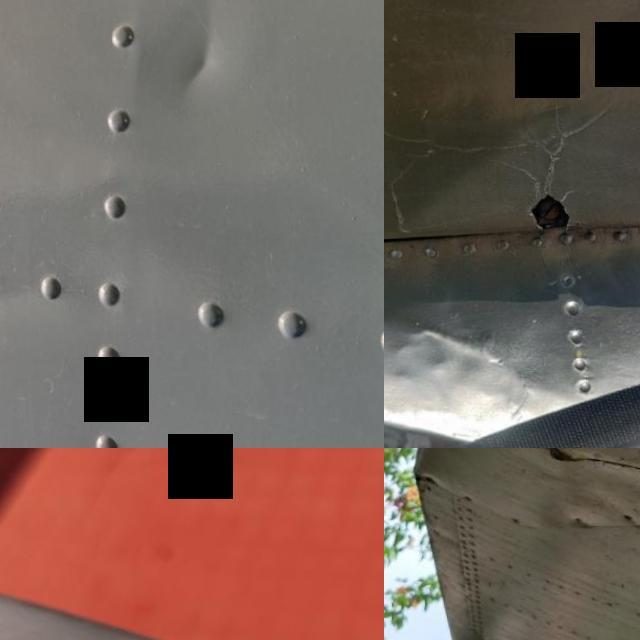Crack: (488, 96, 632, 246)
Dent: (38, 582, 384, 640), (147, 0, 247, 118)
